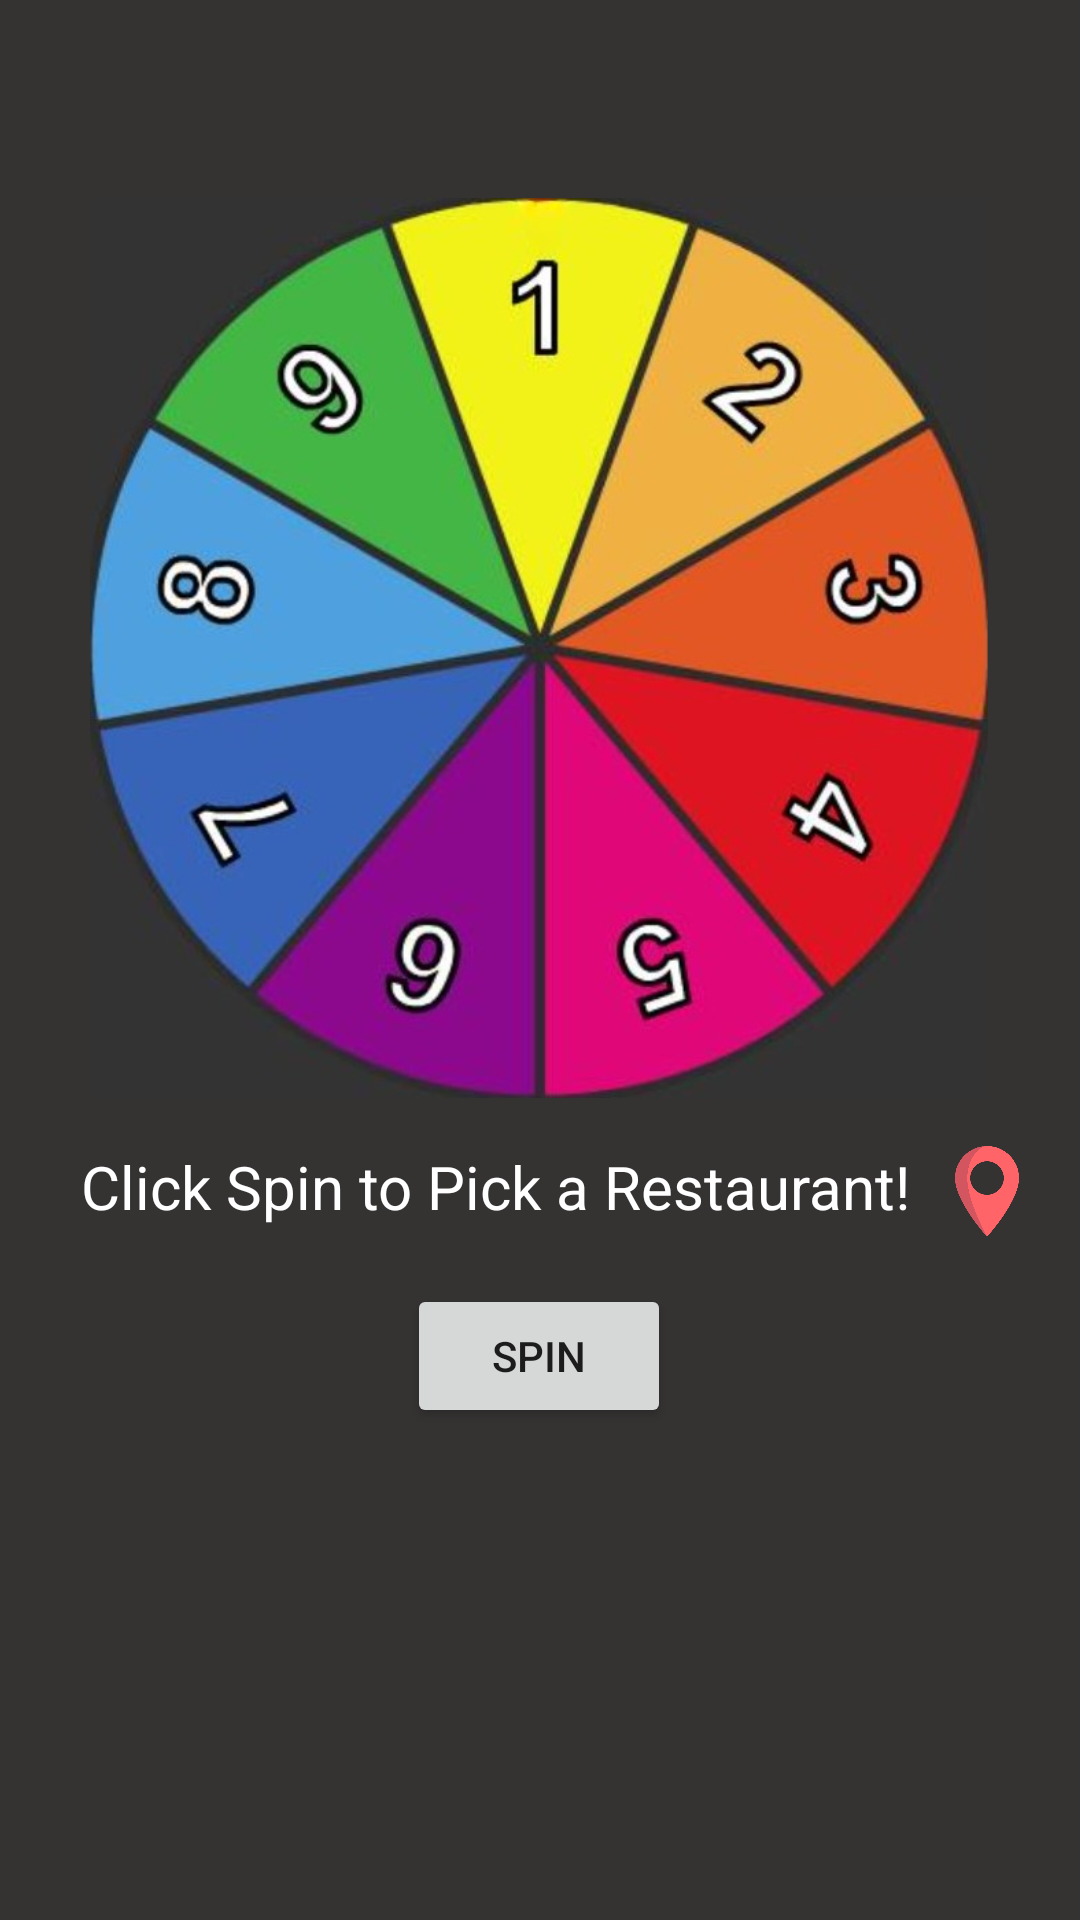

Point at icon controls on the screen. Image size 1080*1920, points as [x,y].
Open a map: [987,1191]
